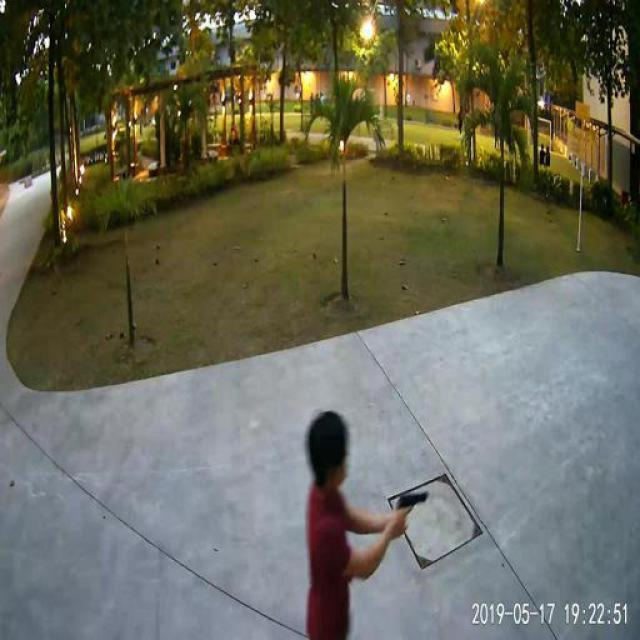weapon: (396, 494, 430, 522)
